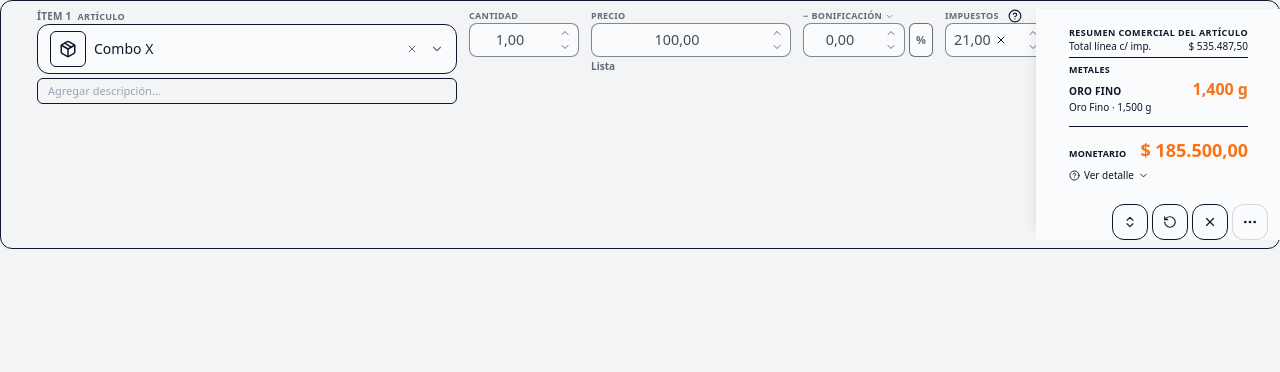
COMBO con redondeo comercial — detalle comercial monetario al desplegar › TRADICIONAL DESGLOSADO con redondeo: conserva su detalle de metal (sin regresión)
The width and height of the screenshot is (1280, 372).
Click the button "Ver detalle". click: (1109, 175)
box: [1069,169,1149,182]
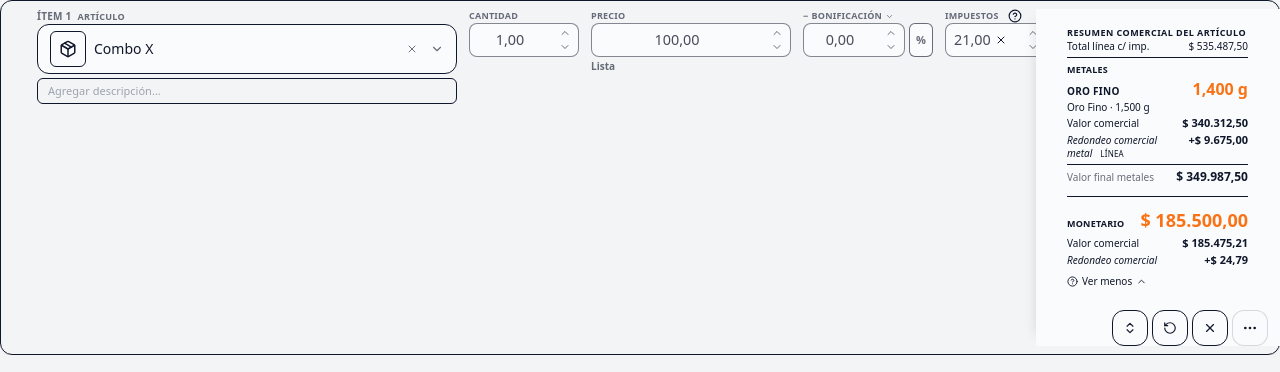
Expected: the element showing "Valor final metales $ 349.987,50" is shown, [1067,164,1248,184]
Expected: the element showing "Redondeo comercial metal línea +$ 9.675,00" is shown, [1067,133,1248,160]
